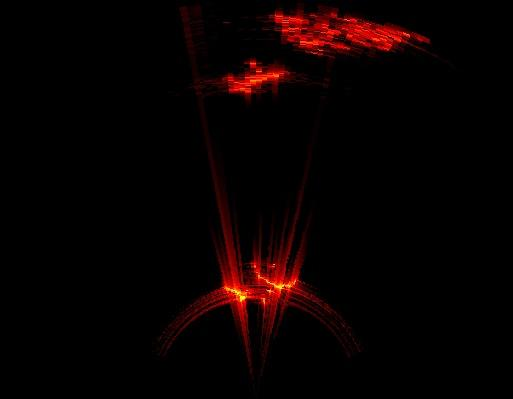shipwreck: (271, 11, 414, 52), (225, 273, 296, 303), (227, 70, 288, 92)
